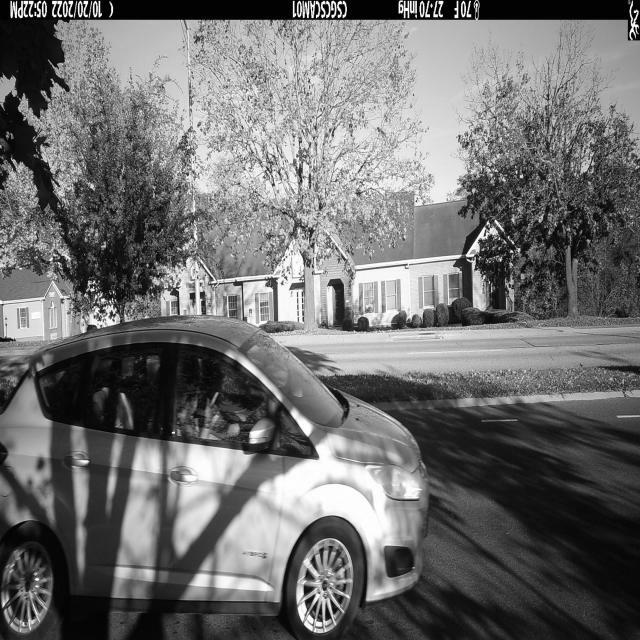SUV: (0, 317, 428, 640)
